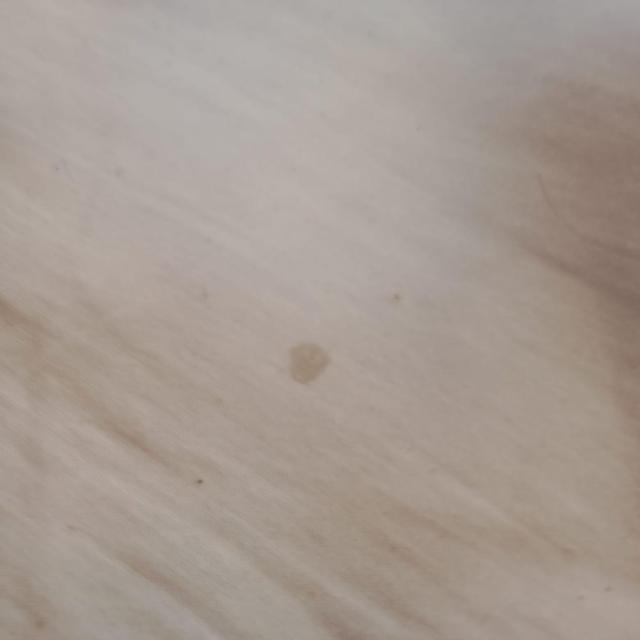stain: (267, 331, 348, 396)
